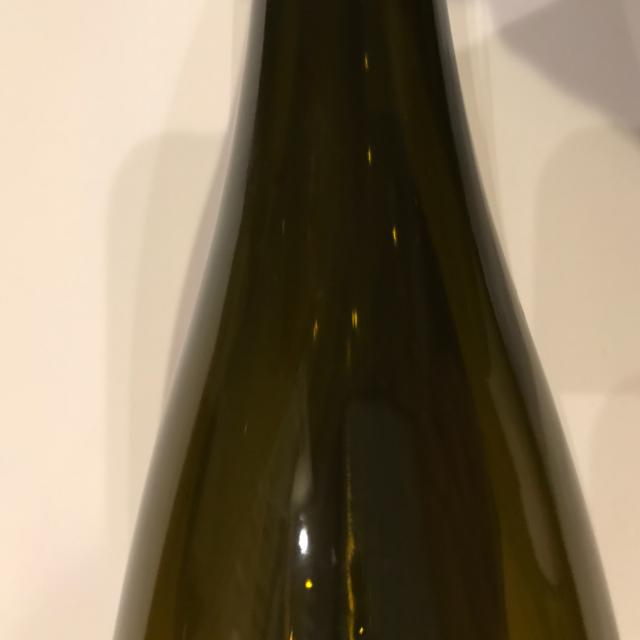glass: (111, 0, 622, 640)
